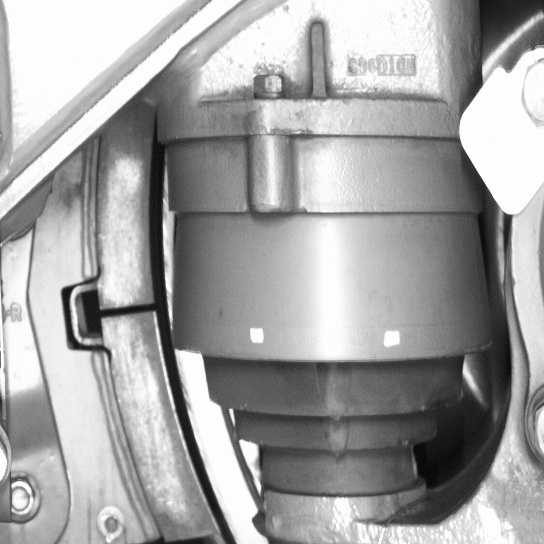KnifeSwitch: (94, 136, 233, 542)
